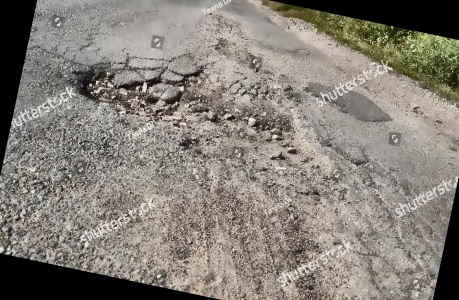pothole: (67, 39, 203, 128)
